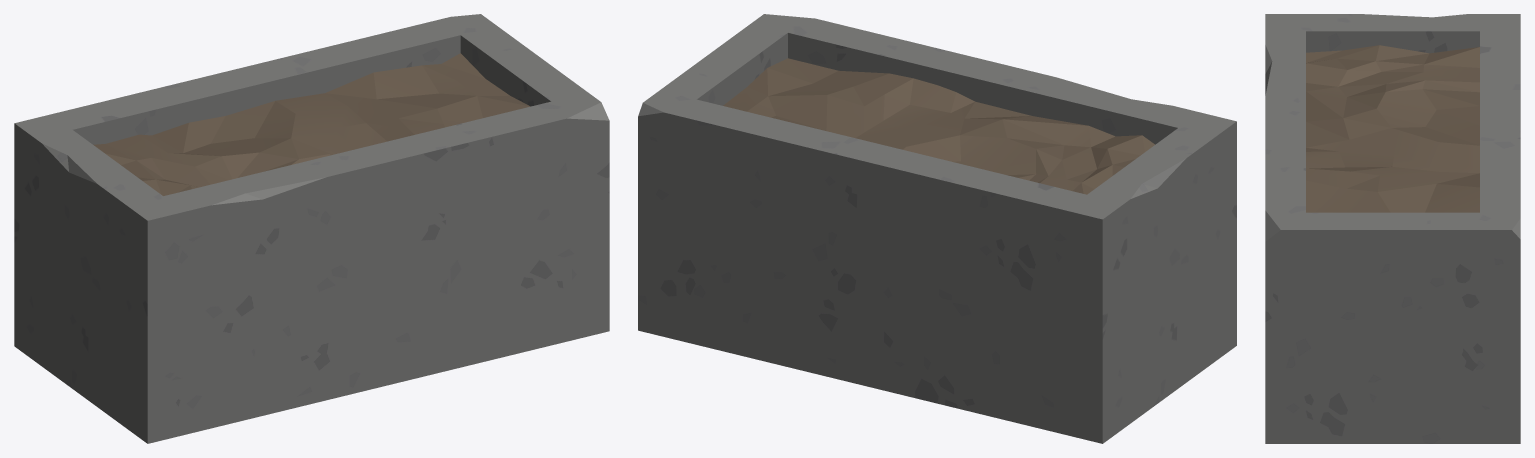
File: SM_Bld_Planter_Box_01.obj
3 views of the same model, side by side, from view 1: azimuth 30°, elevation 25°; view 2: azimuth 150°, elevation 25°; view 3: azimuth 270°, elevation 25° (orthographic). The views are drawn at different scales.
Parts seen in each view (by area): view 1: SM_Bld_Planter_Box_01_1, SM_Bld_Planter_Box_01_0; view 2: SM_Bld_Planter_Box_01_1, SM_Bld_Planter_Box_01_0; view 3: SM_Bld_Planter_Box_01_1, SM_Bld_Planter_Box_01_0.
Boxes of the visible parts, left/top/right/bottom form: SM_Bld_Planter_Box_01_1: left=14, top=14, right=609, bottom=443; SM_Bld_Planter_Box_01_0: left=93, top=53, right=530, bottom=195; SM_Bld_Planter_Box_01_1: left=638, top=14, right=1236, bottom=443; SM_Bld_Planter_Box_01_0: left=723, top=58, right=1154, bottom=194; SM_Bld_Planter_Box_01_1: left=1265, top=14, right=1520, bottom=443; SM_Bld_Planter_Box_01_0: left=1306, top=45, right=1479, bottom=212.
Size of the model in its own units: 2.5 by 1.15 by 1.25.
Materials: 2 (2 with a texture image).
